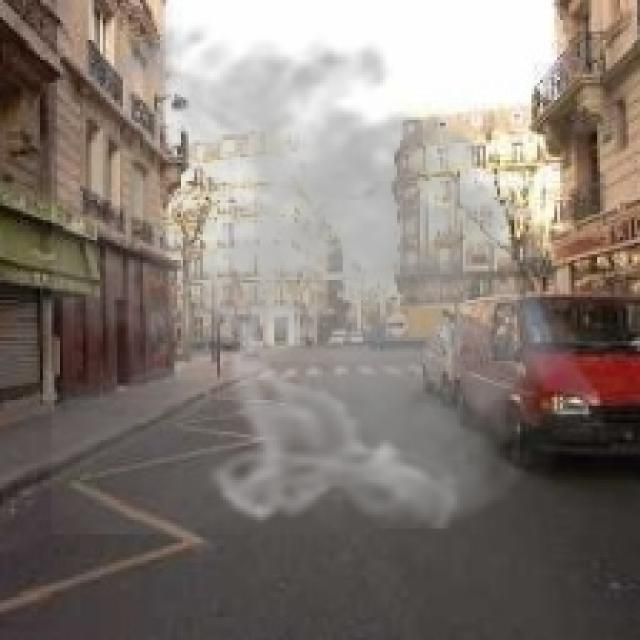Smoke: (51, 8, 600, 534)
